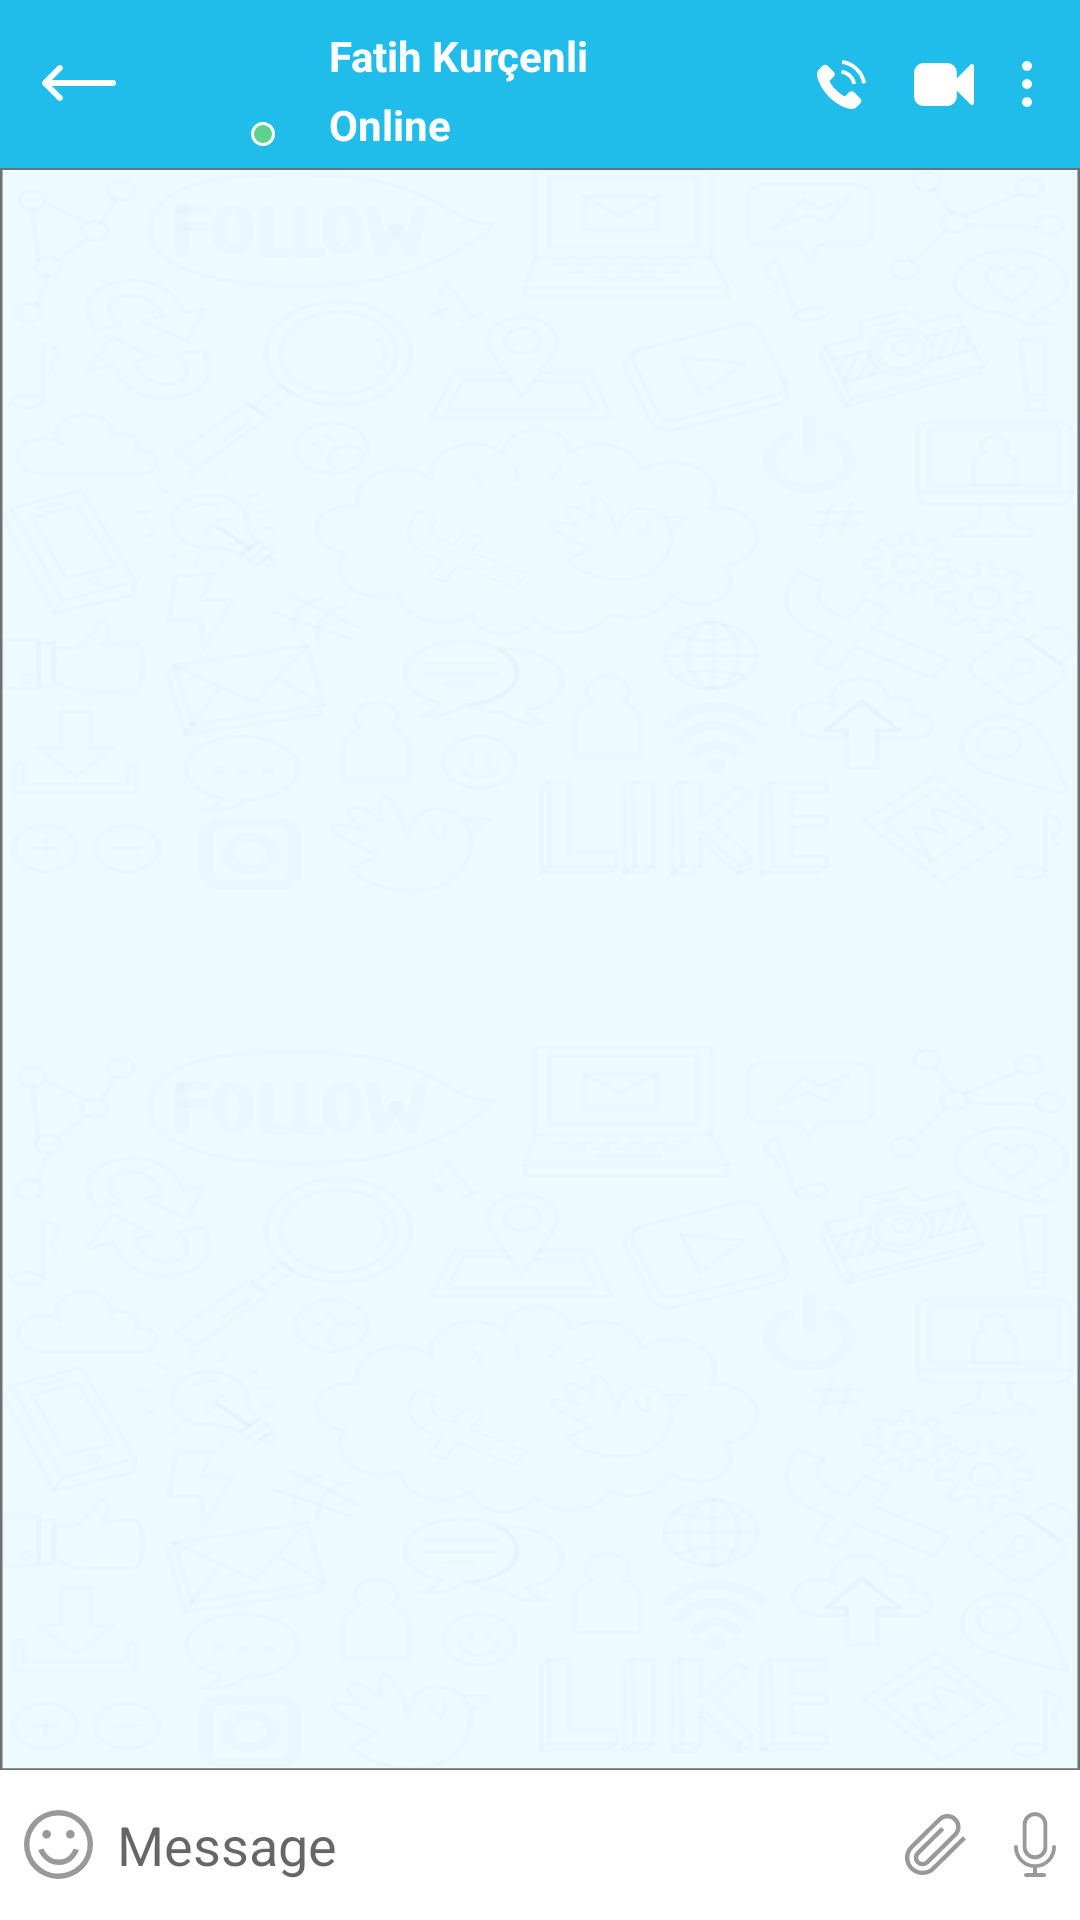

Icon bounding boxes for this 1080x1920 phone screenshot, format (x1, y1, x2, y2):
emoji: (24, 1810, 93, 1879)
facetime: (914, 63, 974, 106)
microphone: (1014, 1812, 1056, 1877)
send attach: (905, 1814, 966, 1875)
telephone: (817, 60, 866, 109)
